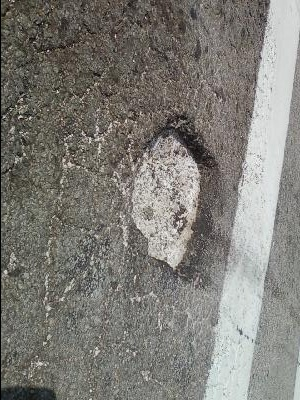pothole: (122, 113, 221, 283)
